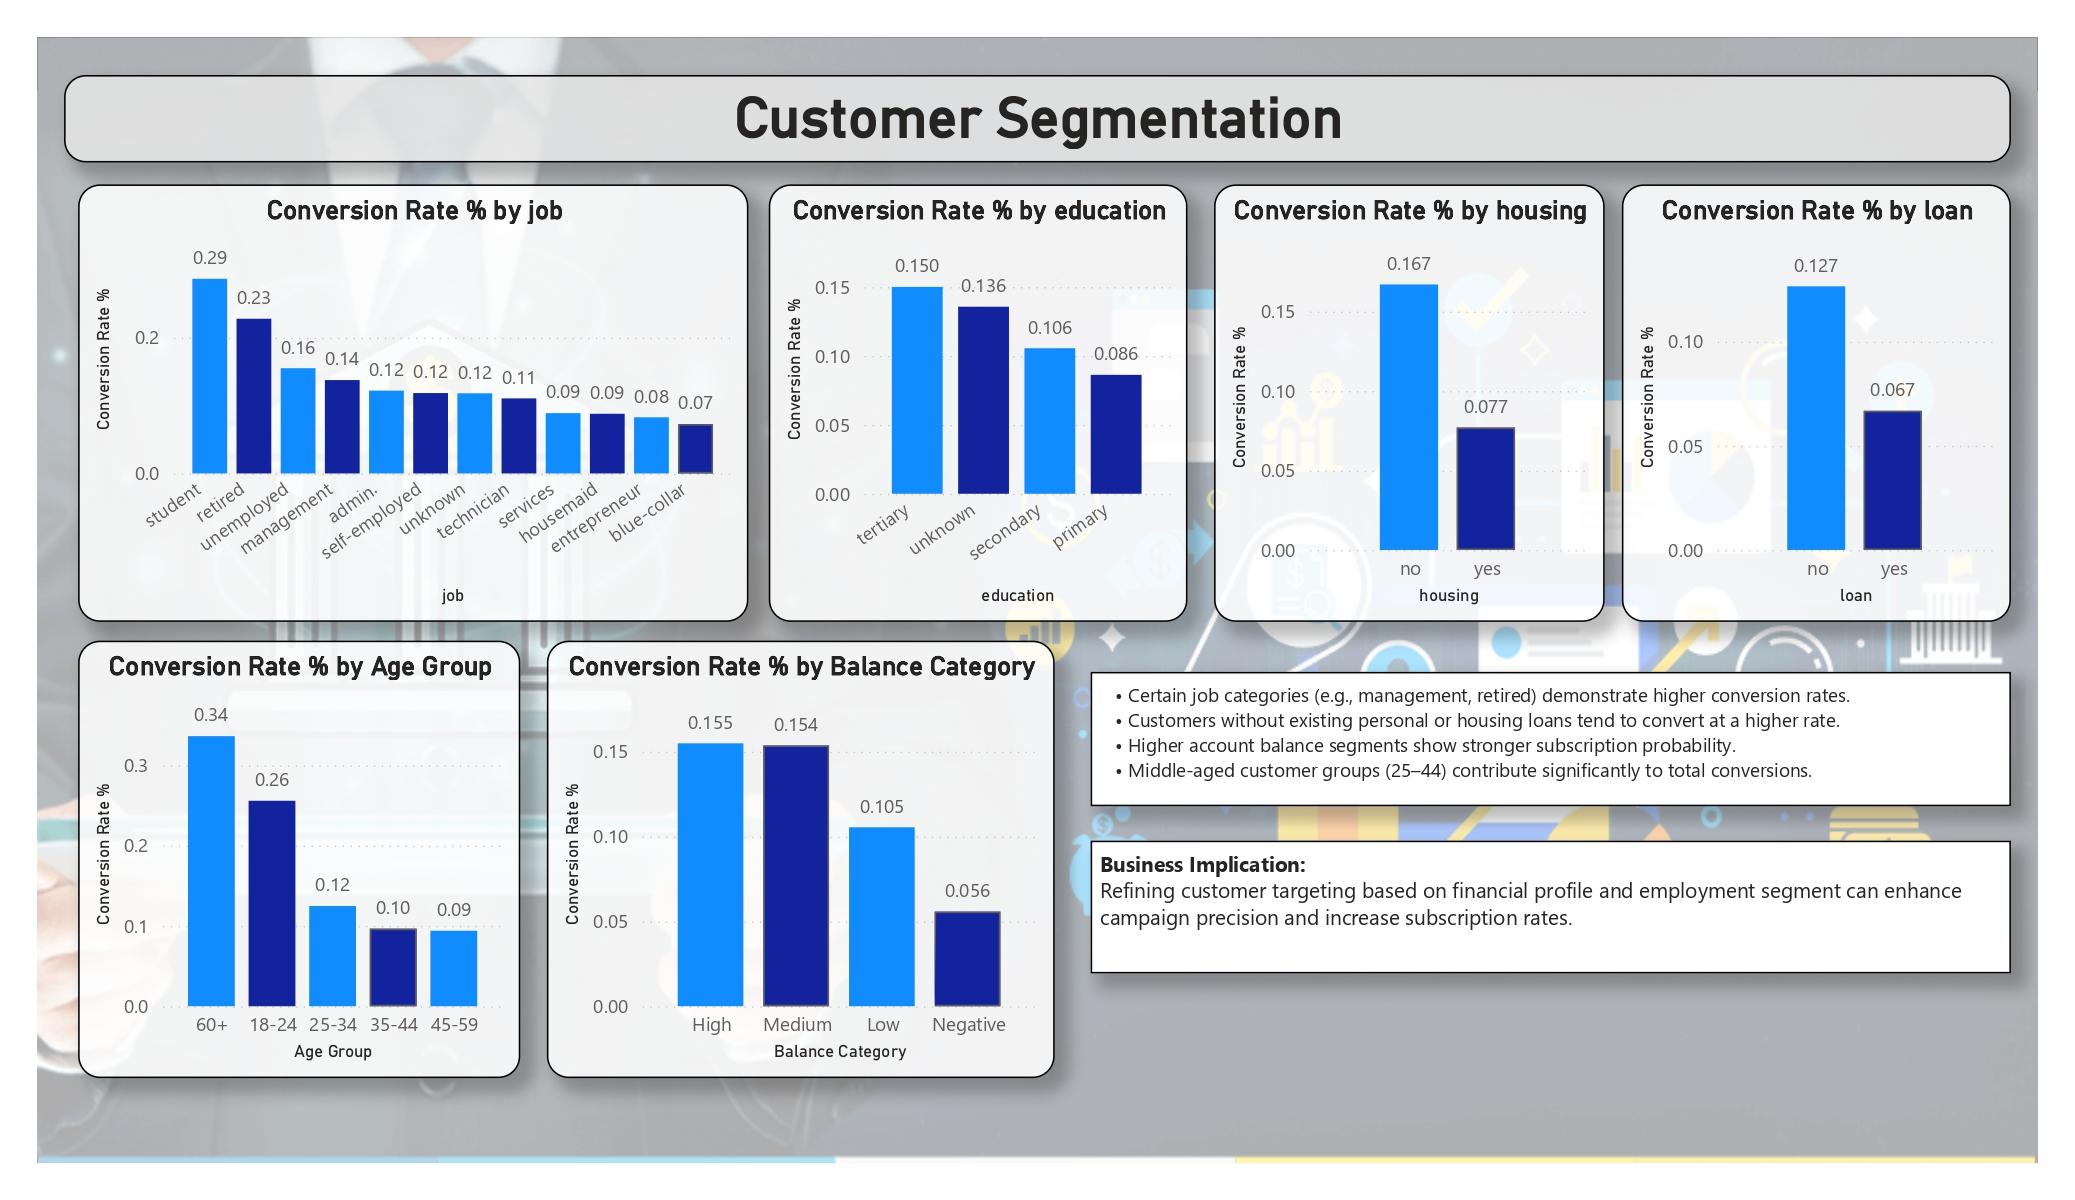

The dashboard page shown, as its layout file describes it:
{"tool":"powerbi","page":{"name":"Customer Segmentation Dashboard","canvas":[1280,720],"ordinal":6},"visuals":[{"type":"textbox","title":"Customer Segmentation","box":[17.1,24.2,1245.8,55.6],"z":0},{"type":"clusteredColumnChart","fields":{"Category":["bank-full.job"],"Y":["bank-full.Conversion Rate %"]},"box":[25.7,94.2,429.2,280],"z":1},{"type":"clusteredColumnChart","fields":{"Category":["bank-full.education"],"Y":["bank-full.Conversion Rate %"]},"box":[468.3,94.2,267.8,280],"z":2},{"type":"clusteredColumnChart","fields":{"Category":["bank-full.Age Group"],"Y":["bank-full.Conversion Rate %"]},"box":[25.7,386.4,283.7,280],"z":3},{"type":"clusteredColumnChart","fields":{"Category":["bank-full.Balance Category"],"Y":["bank-full.Conversion Rate %"]},"box":[326.5,386.4,324.1,280],"z":4},{"type":"clusteredColumnChart","fields":{"Category":["bank-full.housing"],"Y":["bank-full.Conversion Rate %"]},"box":[753.3,94.2,249.5,280],"z":5},{"type":"clusteredColumnChart","fields":{"Category":["bank-full.loan"],"Y":["bank-full.Conversion Rate %"]},"box":[1013.7,94.2,249.5,280],"z":6},{"type":"textbox","box":[673.8,406,589.4,85.6],"z":7},{"type":"textbox","box":[673.8,513.6,589.4,85.6],"z":8}]}

Visuals, with their boxes in screenshot pixels (x1, y1, x2, y2):
"Customer Segmentation" textbox: select_region(70, 75, 1991, 161)
clusteredColumnChart - bank-full.job x bank-full.Conversion Rate %: select_region(83, 183, 745, 615)
clusteredColumnChart - bank-full.education x bank-full.Conversion Rate %: select_region(765, 183, 1178, 615)
clusteredColumnChart - bank-full.Age Group x bank-full.Conversion Rate %: select_region(83, 634, 520, 1065)
clusteredColumnChart - bank-full.Balance Category x bank-full.Conversion Rate %: select_region(547, 634, 1046, 1065)
clusteredColumnChart - bank-full.housing x bank-full.Conversion Rate %: select_region(1205, 183, 1590, 615)
clusteredColumnChart - bank-full.loan x bank-full.Conversion Rate %: select_region(1606, 183, 1991, 615)
textbox: select_region(1082, 664, 1991, 796)
textbox: select_region(1082, 830, 1991, 962)
